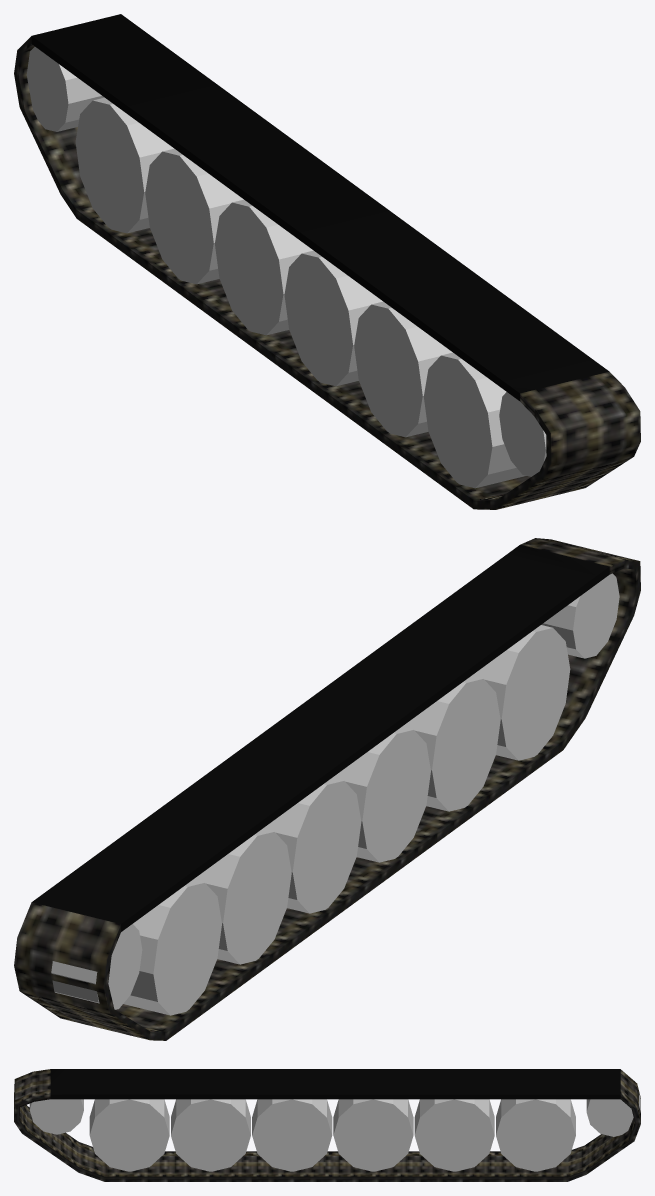
Rendered from CVV.FBX.
3 renders of one model, top to bottom at view 1: azimuth 30°, elevation 25°; view 2: azimuth 150°, elevation 25°; view 3: azimuth 270°, elevation 25°, orthographic. The views are drawn at different scales.
Parts seen in each view (by area): view 1: Object05, headusOBJexport; view 2: Object05, headusOBJexport; view 3: headusOBJexport, Object05.
Boxes of the visible parts, x1,y1,x2,y2 form: Object05: (14, 14, 640, 509); headusOBJexport: (26, 47, 546, 488); Object05: (14, 538, 640, 1040); headusOBJexport: (51, 573, 619, 1015); headusOBJexport: (29, 1094, 640, 1171); Object05: (14, 1069, 640, 1181).
Size of the model in its own units: 170 by 1766 by 272.
